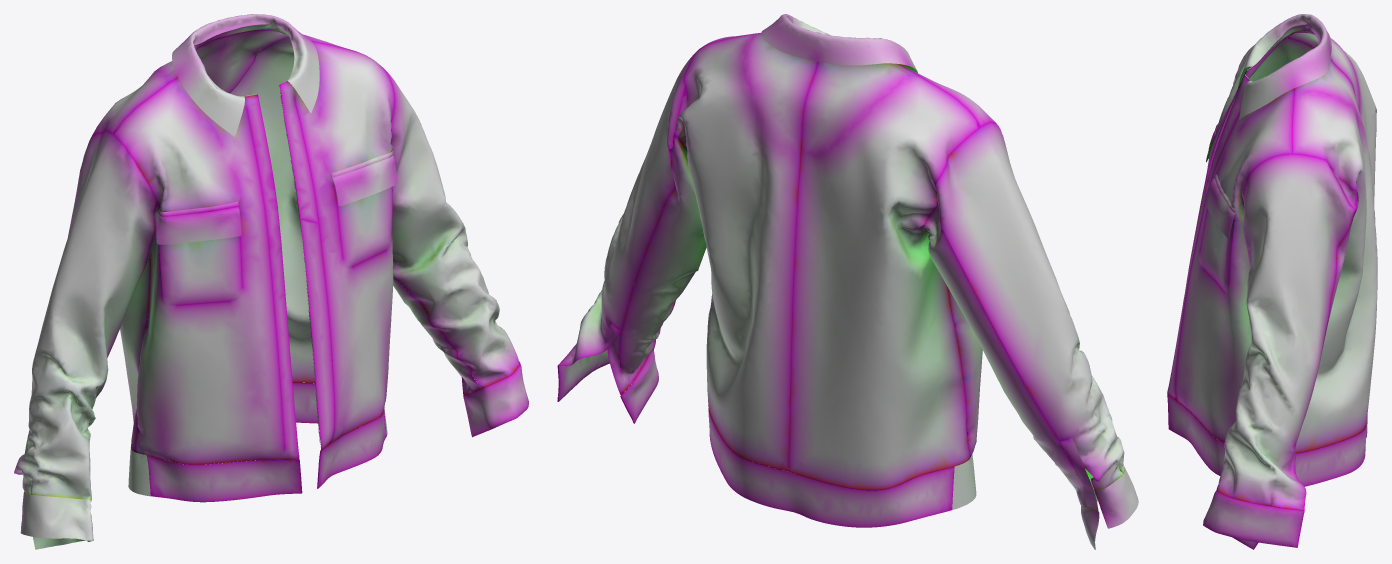
The model's file is coachjacket.glb.
The picture shows the model from 3 angles, left to right: view 1: azimuth 30°, elevation 25°; view 2: azimuth 150°, elevation 25°; view 3: azimuth 270°, elevation 25°; orthographic projection. The views are drawn at different scales.
Visible parts, largest first — view 1: front, sleeve_r, back, sleeve_l; view 2: back, sleeve_r, sleeve_l, front; view 3: sleeve_l, back, front, sleeve_r.
Boxes of the visible parts, left/top/right/bottom form: front: left=114, top=41, right=397, bottom=502; sleeve_r: left=14, top=130, right=160, bottom=549; back: left=92, top=14, right=357, bottom=451; sleeve_l: left=382, top=67, right=528, bottom=437; back: left=670, top=14, right=980, bottom=527; sleeve_r: left=923, top=122, right=1138, bottom=549; sleeve_l: left=557, top=52, right=706, bottom=423; front: left=696, top=33, right=996, bottom=458; sleeve_l: left=1203, top=154, right=1358, bottom=549; back: left=1238, top=14, right=1377, bottom=486; front: left=1167, top=32, right=1294, bottom=475; sleeve_r: left=1249, top=38, right=1313, bottom=81.
Bounding box in the file's own units: 0.8169 × 0.6999 × 0.3112.
